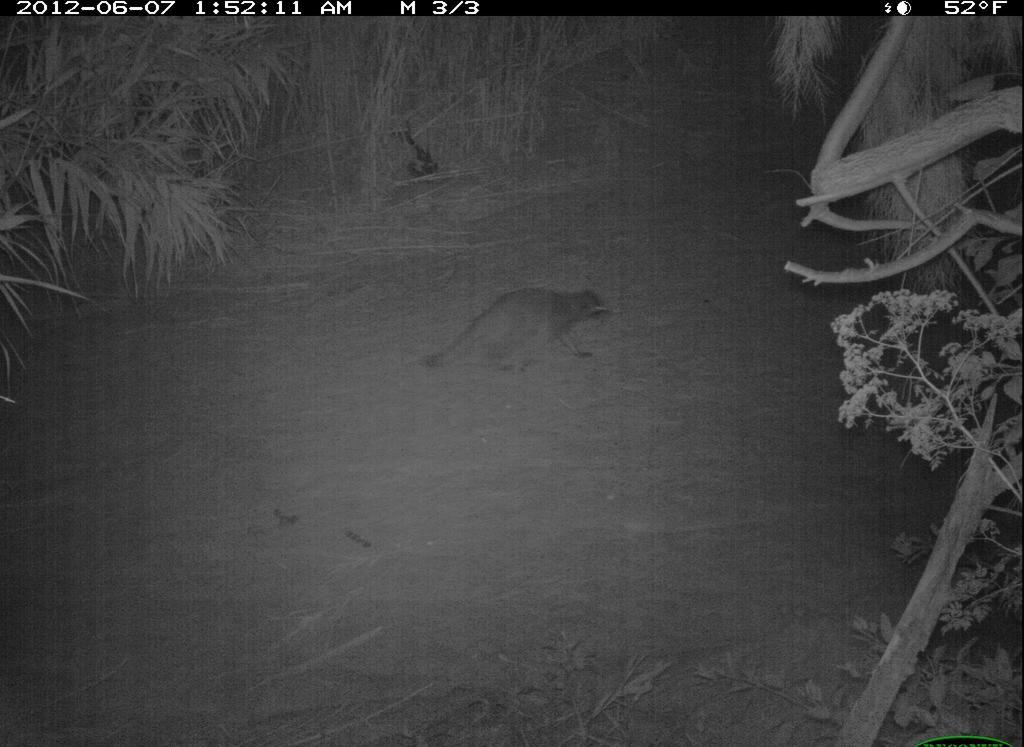raccoon: (415, 264, 632, 392)
